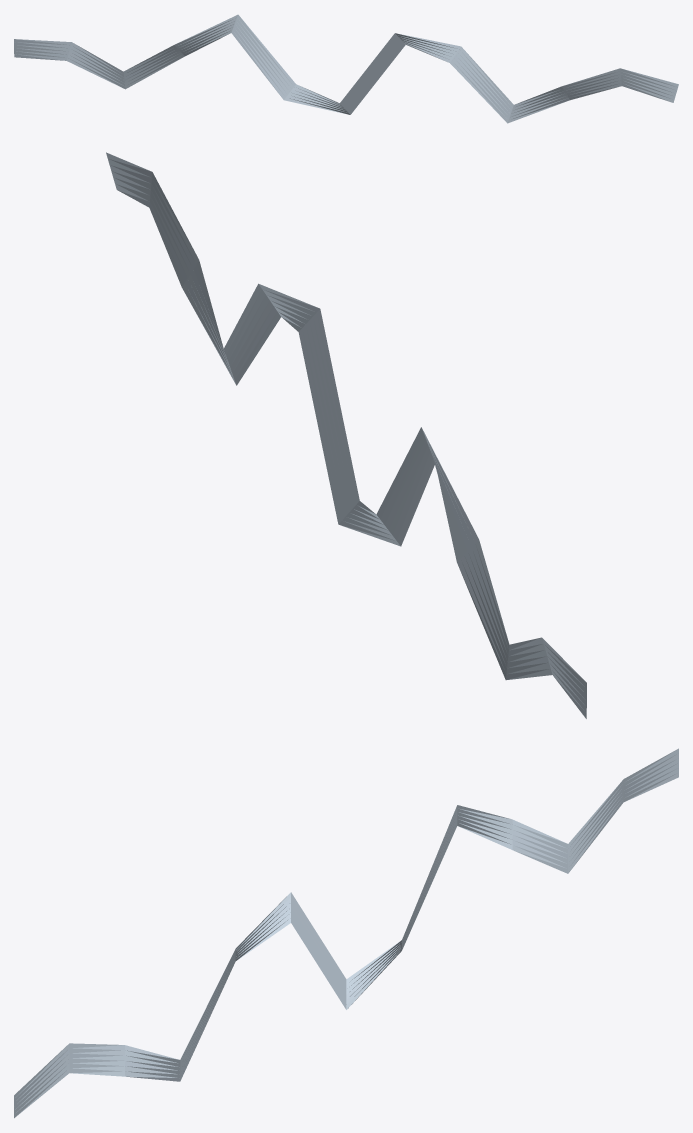
Rendered from 2065_LightningCage_State_CageArc_0_0.fbx.
3 views of the same model, one above another, from view 1: azimuth 30°, elevation 25°; view 2: azimuth 150°, elevation 25°; view 3: azimuth 270°, elevation 25° (orthographic). The views are drawn at different scales.
Parts seen in each view (by area): view 1: PART_CageArc_0_0; view 2: PART_CageArc_0_0; view 3: PART_CageArc_0_0.
Part boxes in pixels (bbox=[...]): PART_CageArc_0_0: bbox=[14, 14, 678, 123]; PART_CageArc_0_0: bbox=[106, 152, 586, 718]; PART_CageArc_0_0: bbox=[14, 748, 678, 1118].
Size of the model in its own units: 61.88 by 12.22 by 50.23.
